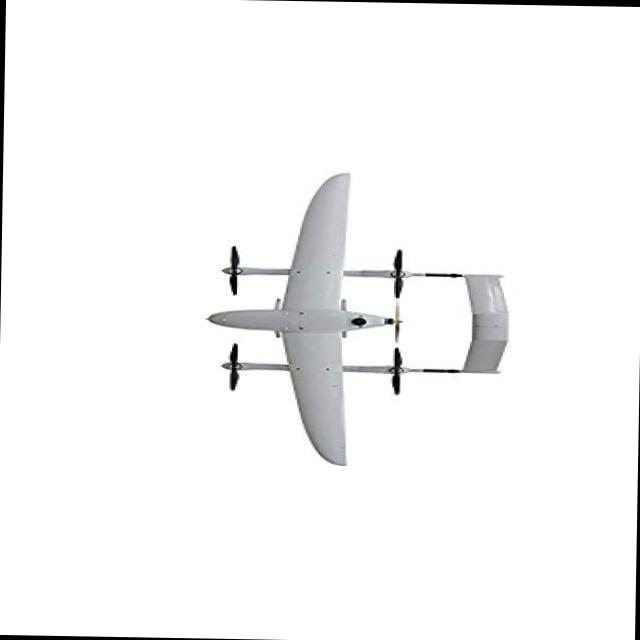UAV: (233, 193, 530, 462)
